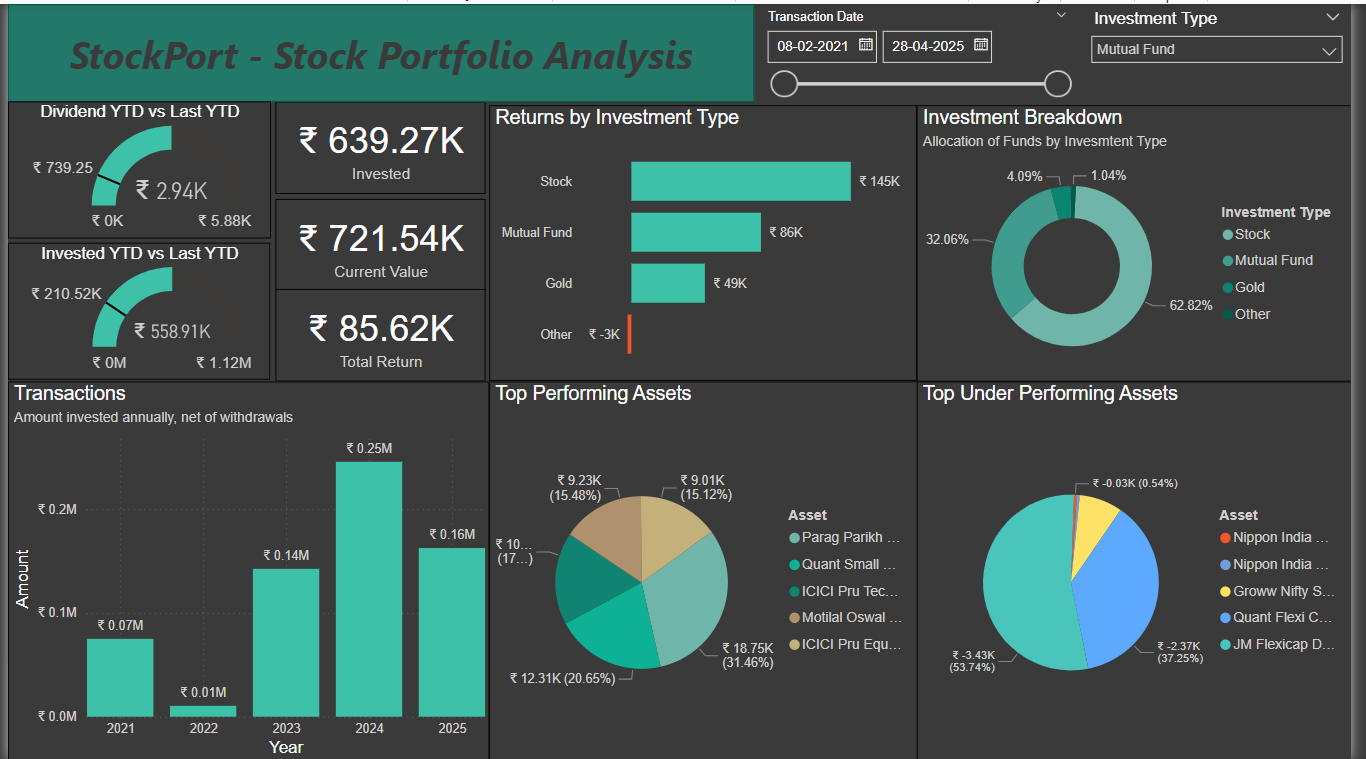

What the dashboard file says about the page in this screenshot:
{"tool":"powerbi","page":{"name":"Overview","canvas":[1280,720],"ordinal":0},"visuals":[{"type":"columnChart","title":"Transactions","fields":{"Category":["Append1.Transaction Date.Variation.Date Hierarchy.Year","Append1.Transaction Date.Variation.Date Hierarchy.Month","Append1.Transaction Date.Variation.Date Hierarchy.Day"],"Y":["Sum(Append1.Amount(Credits/Debits))"]},"box":[0,359.5,458.3,360.9],"z":2000},{"type":"card","fields":{"Values":["Sum(Current Value.Current Value)"]},"box":[254.5,185.2,200,87.8],"z":3000},{"type":"card","fields":{"Values":["Sum(Current Value.Total cost)"]},"box":[254.5,93.3,200,87.8],"z":4000},{"type":"donutChart","title":"Investment Breakdown","fields":{"Category":["Current Value.Investment Type"],"Y":["Sum(Current Value.Current Value)"]},"box":[865.5,96.4,414.3,263.1],"z":5000},{"type":"card","fields":{"Values":["Sum(Current Value.Total Return)"]},"box":[254.5,271.7,200,87.8],"z":6000},{"type":"slicer","fields":{"Values":["Append1.Transaction Date"]},"box":[710.8,0,310.1,93.3],"z":7000},{"type":"pieChart","title":"Top Performing Assets","fields":{"Category":["Current Value.Fund Name"],"Y":["Sum(Current Value.Total Return)"]},"box":[458.3,359.5,408.9,360.9],"z":8000},{"type":"barChart","title":"Returns by Investment Type","fields":{"Category":["Current Value.Investment Type"],"Y":["Sum(Current Value.Total Return)"]},"box":[458.3,96.1,407.5,262.1],"z":9000},{"type":"pieChart","title":"Top Under Performing Assets","fields":{"Category":["Current Value.Fund Name"],"Y":["Sum(Current Value.Total Return)"]},"box":[865.9,359.5,414.4,360.9],"z":10000},{"type":"shape","box":[0,0,710.8,93.3],"z":12000},{"type":"slicer","fields":{"Values":["Append1.Investment Type"]},"box":[1020.9,0,259.3,94.7],"z":13000},{"type":"gauge","title":"Dividend YTD vs Last YTD","fields":{"TargetValue":["Append1.Last YEAR YTD"],"Y":["Append1.YTD Dividend"]},"box":[0,93.3,250,130.4],"z":13500},{"type":"gauge","title":"Invested YTD vs Last YTD","fields":{"Y":["Append1.YTD Investment"],"TargetValue":["Append1.Last YTD Investment"]},"box":[0,227.8,249.7,130.4],"z":14000}]}

Visuals, with their boxes in screenshot pixels (x1, y1, x2, y2), scaled from the page's 1280x720 canvas onto the 1366x759 screenshot:
"Transactions" columnChart: [0,379,489,758]
card - Sum(Current Value.Current Value): [272,195,485,288]
card - Sum(Current Value.Total cost): [272,98,485,191]
"Investment Breakdown" donutChart: [924,102,1365,379]
card - Sum(Current Value.Total Return): [272,286,485,379]
slicer - Append1.Transaction Date: [759,0,1089,98]
"Top Performing Assets" pieChart: [489,379,925,758]
"Returns by Investment Type" barChart: [489,101,924,378]
"Top Under Performing Assets" pieChart: [924,379,1365,758]
shape: [0,0,759,98]
slicer - Append1.Investment Type: [1089,0,1365,100]
"Dividend YTD vs Last YTD" gauge: [0,98,267,236]
"Invested YTD vs Last YTD" gauge: [0,240,266,378]
